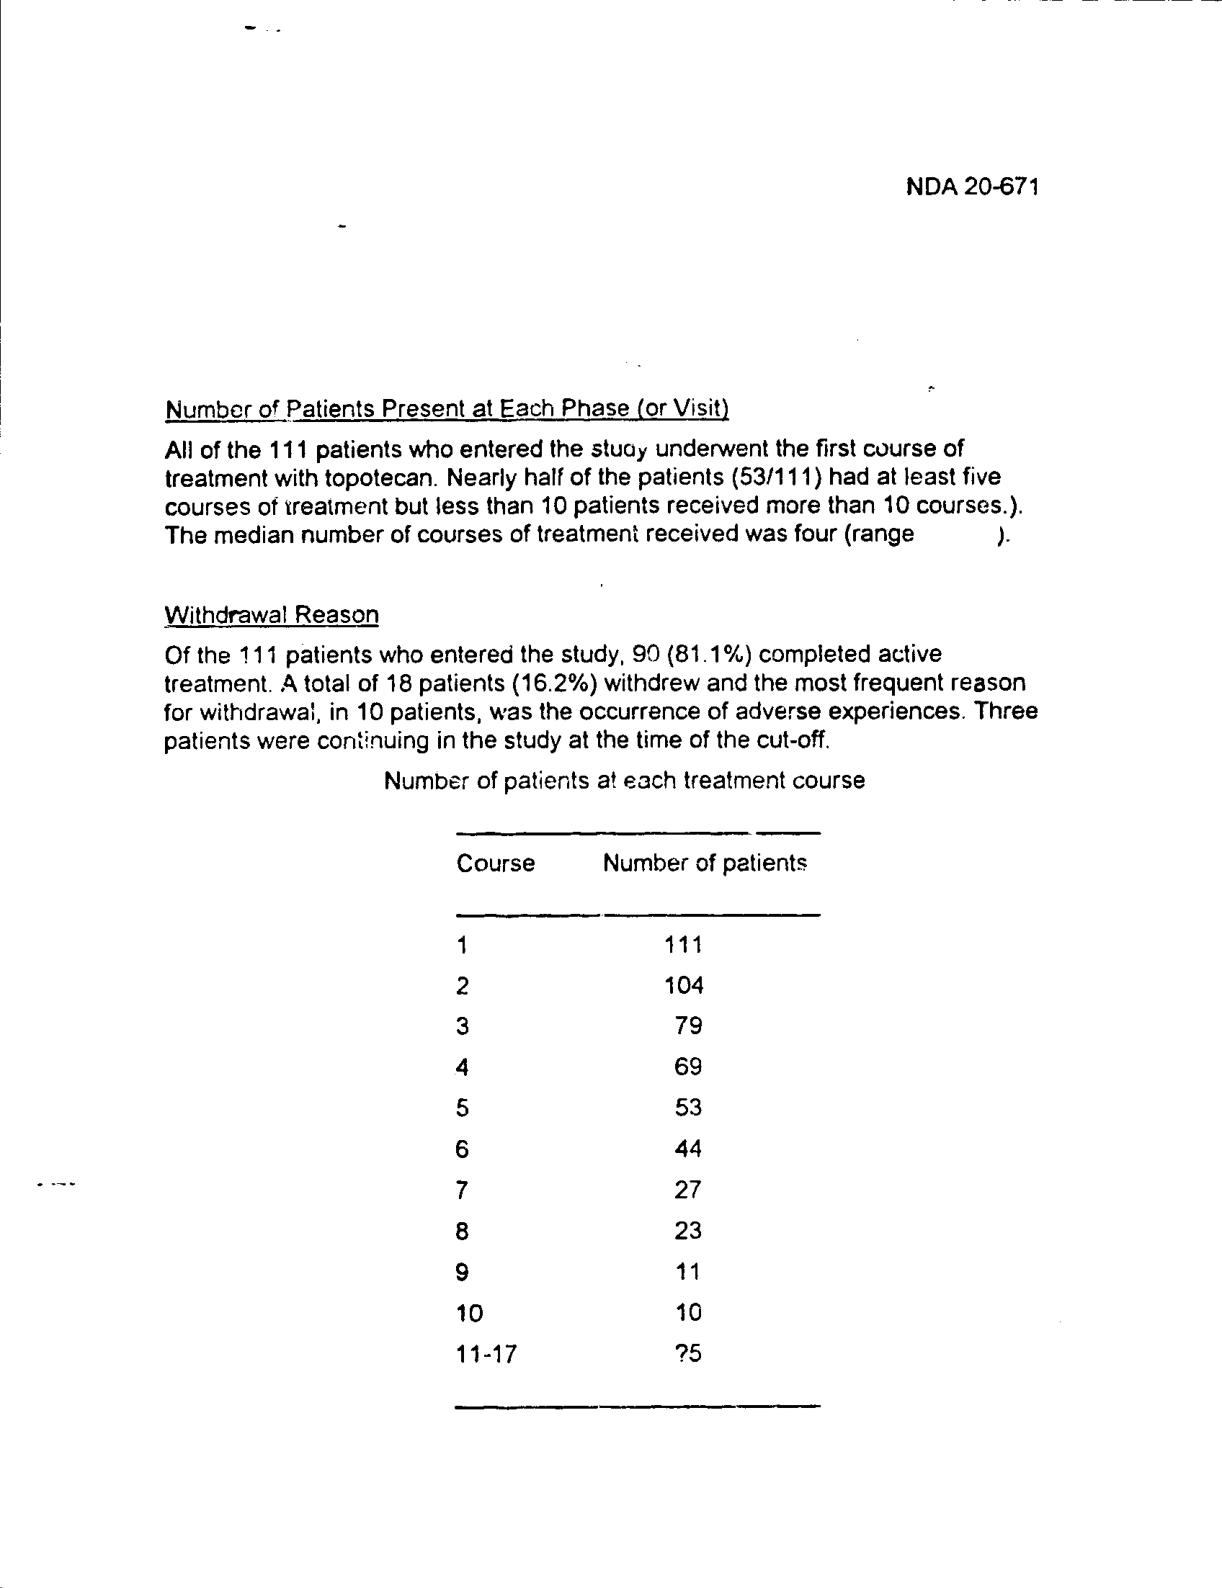partial_lined: (454, 828, 825, 1413)
